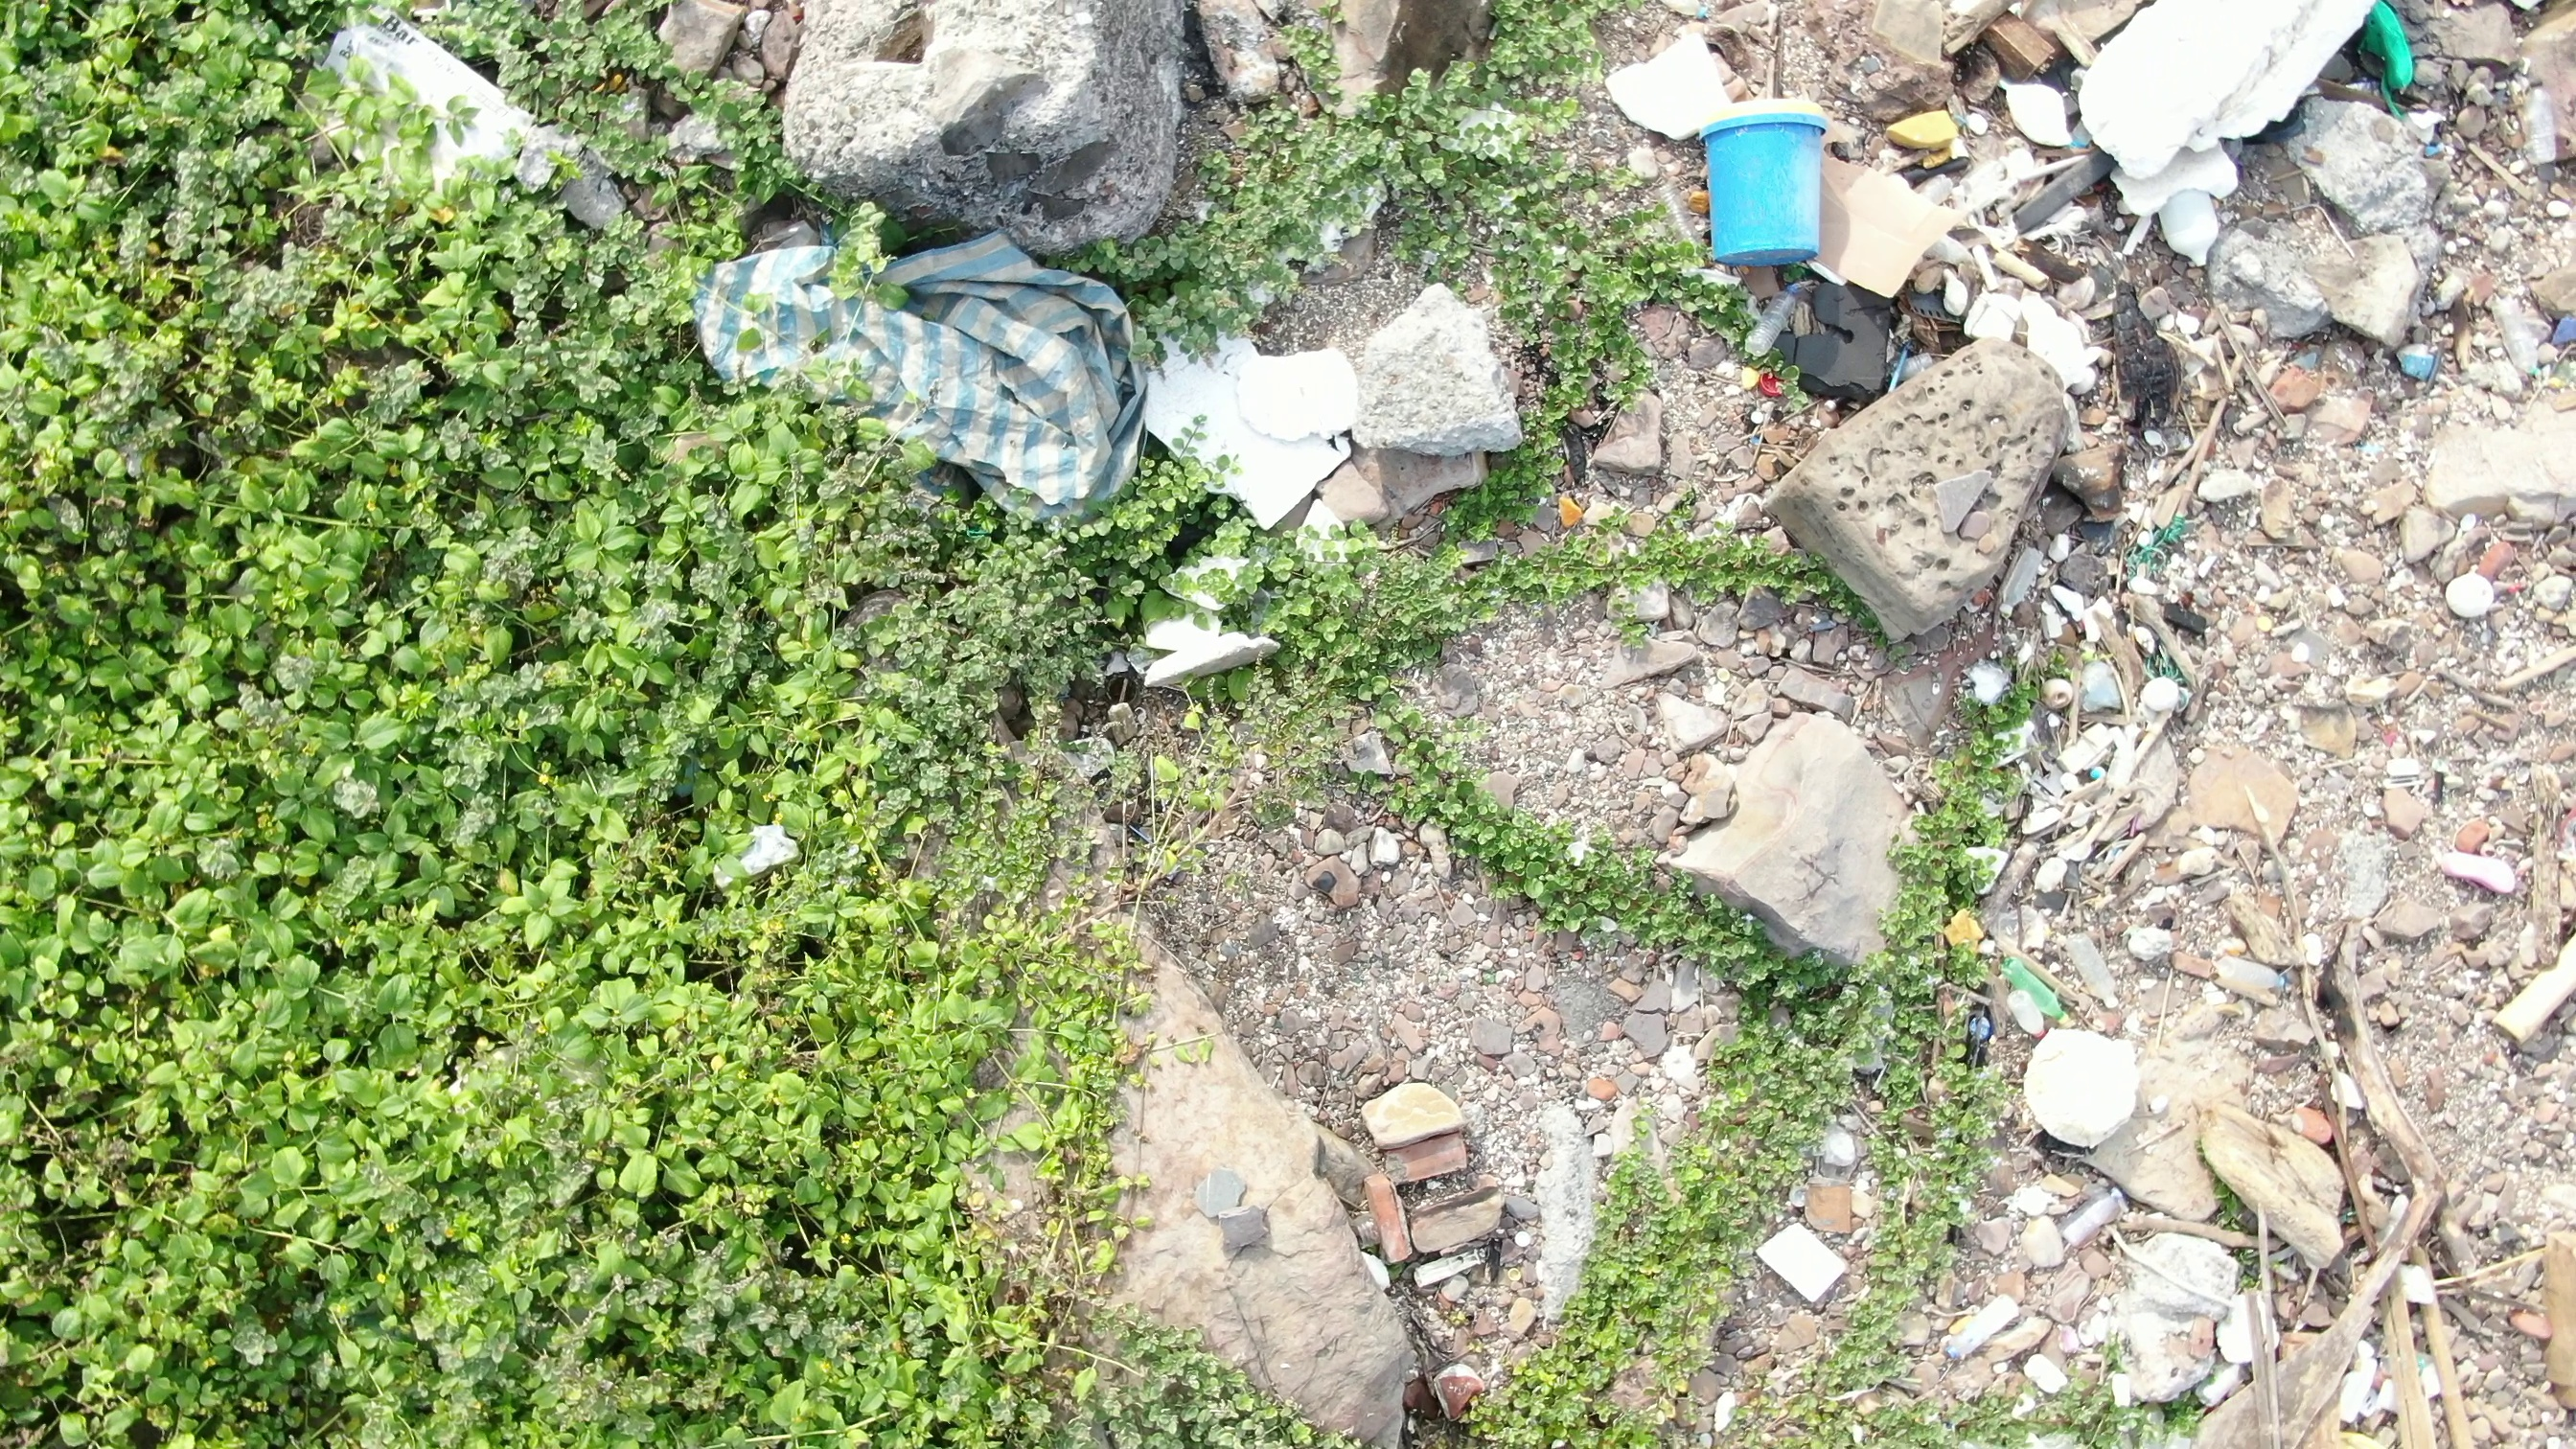bottle: (1994, 950, 2079, 1028), (1746, 278, 1810, 370)
garbage: (1591, 14, 2189, 418), (683, 221, 1168, 527), (294, 2, 626, 237), (1141, 306, 1398, 540), (1127, 540, 1297, 709), (2125, 483, 2204, 729), (2348, 2, 2429, 131), (2392, 324, 2450, 389)
